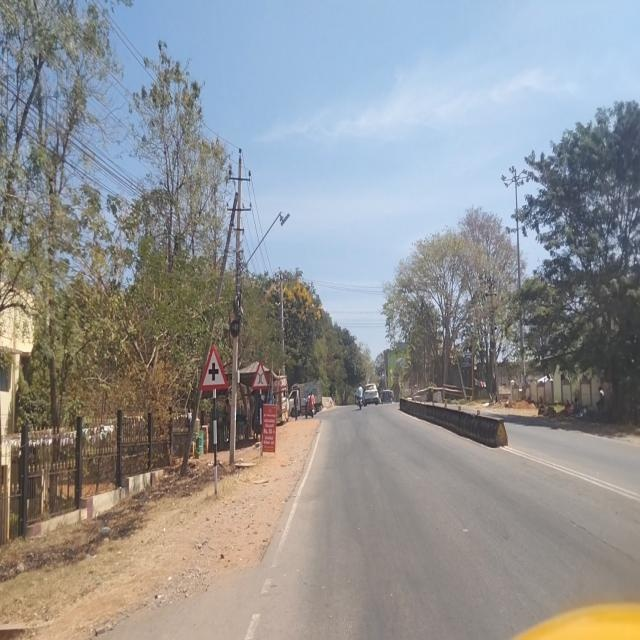bien_nguy_hiem: (198, 342, 228, 392), (252, 360, 268, 389)
